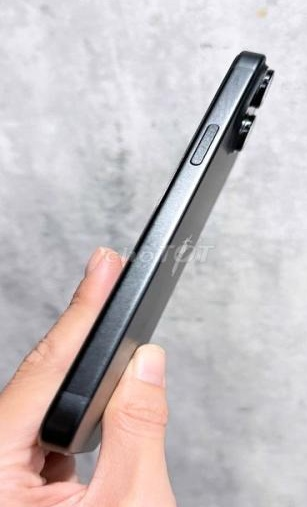scratch: (89, 338, 118, 384), (190, 125, 219, 164), (80, 398, 87, 406)
